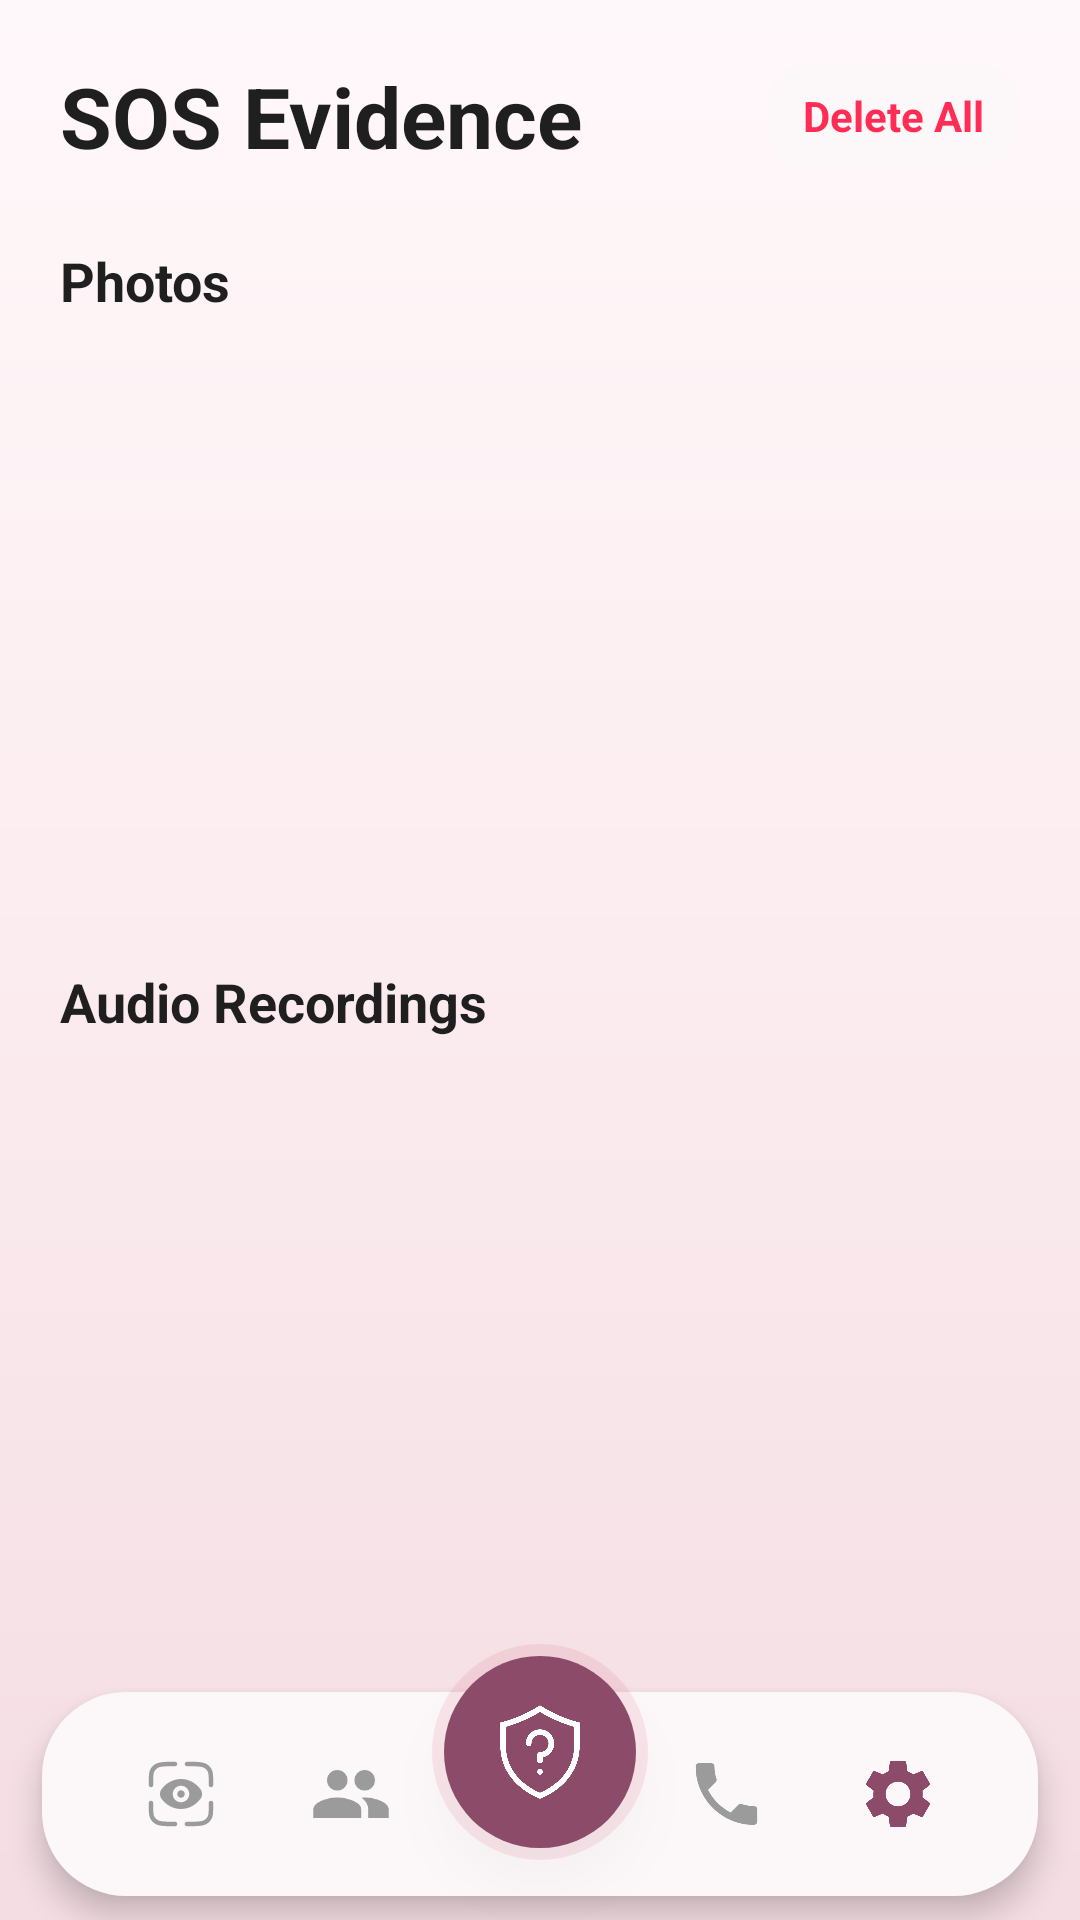

Named icons in this screenshot (1080 × 1920) and their centers, (x,y):
Call: (726,1794)
Contacts: (351,1794)
Settings: (898,1794)
